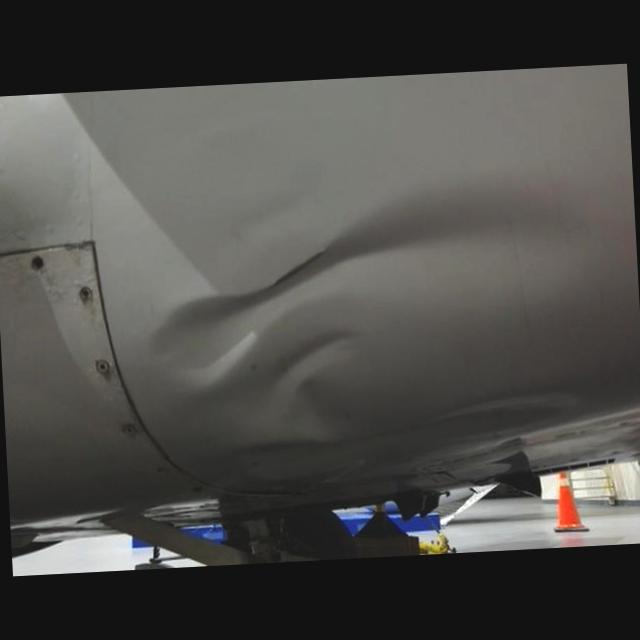dent: (143, 161, 640, 395), (228, 380, 612, 490), (255, 325, 362, 430)
